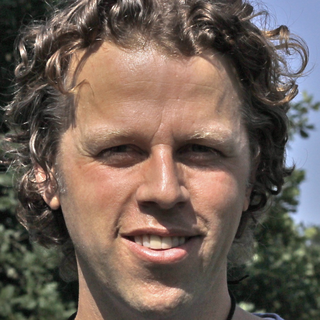eye: (98, 139, 146, 163), (177, 139, 222, 160)
